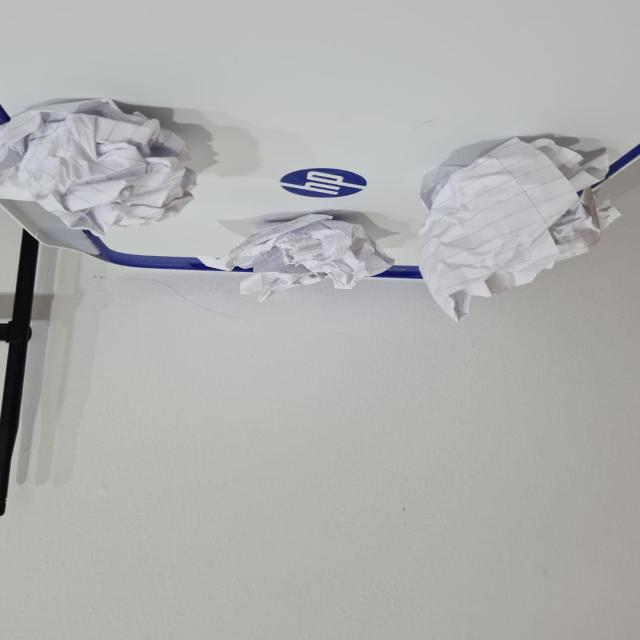kertas: (409, 150, 591, 312), (0, 96, 190, 242), (214, 214, 391, 304)
